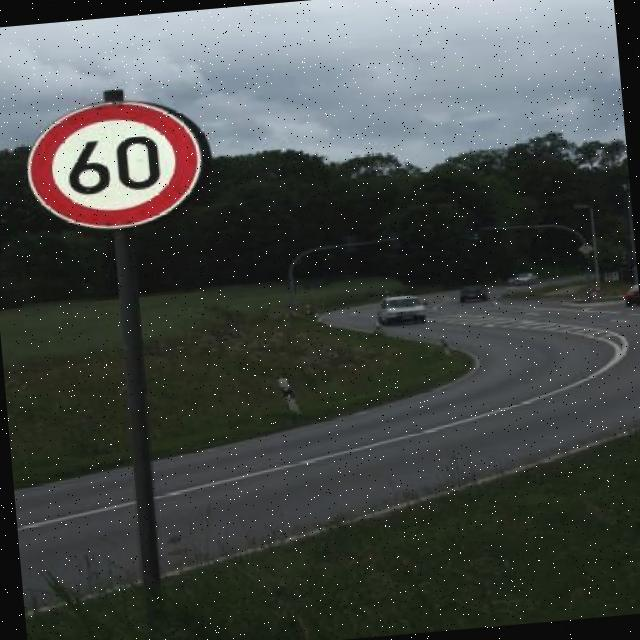Ograniczenie predkosci do 60: (20, 91, 211, 238)
